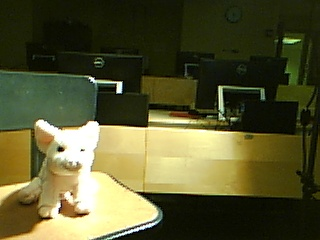piggy: (15, 118, 102, 220)
